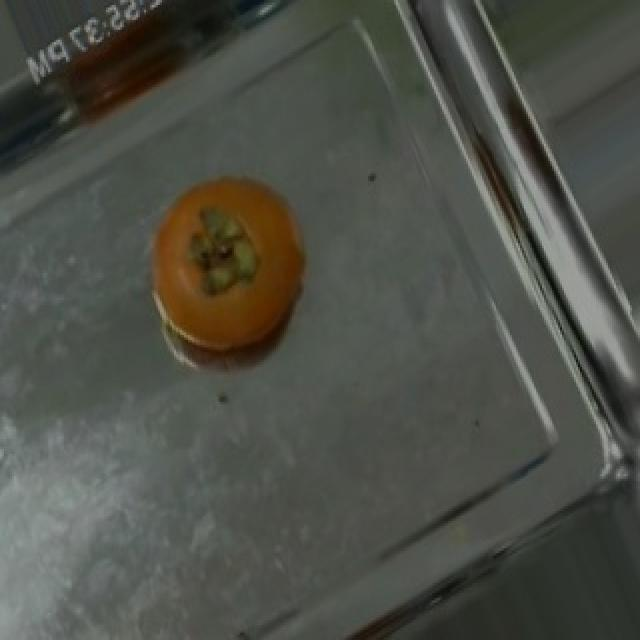Fruit: (132, 151, 326, 372)
